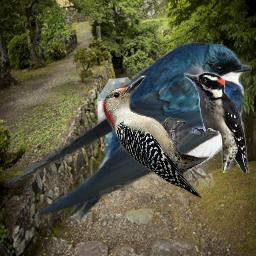Swallow: (4, 41, 251, 220)
Woodpecker: (102, 75, 209, 199), (184, 72, 249, 173)
